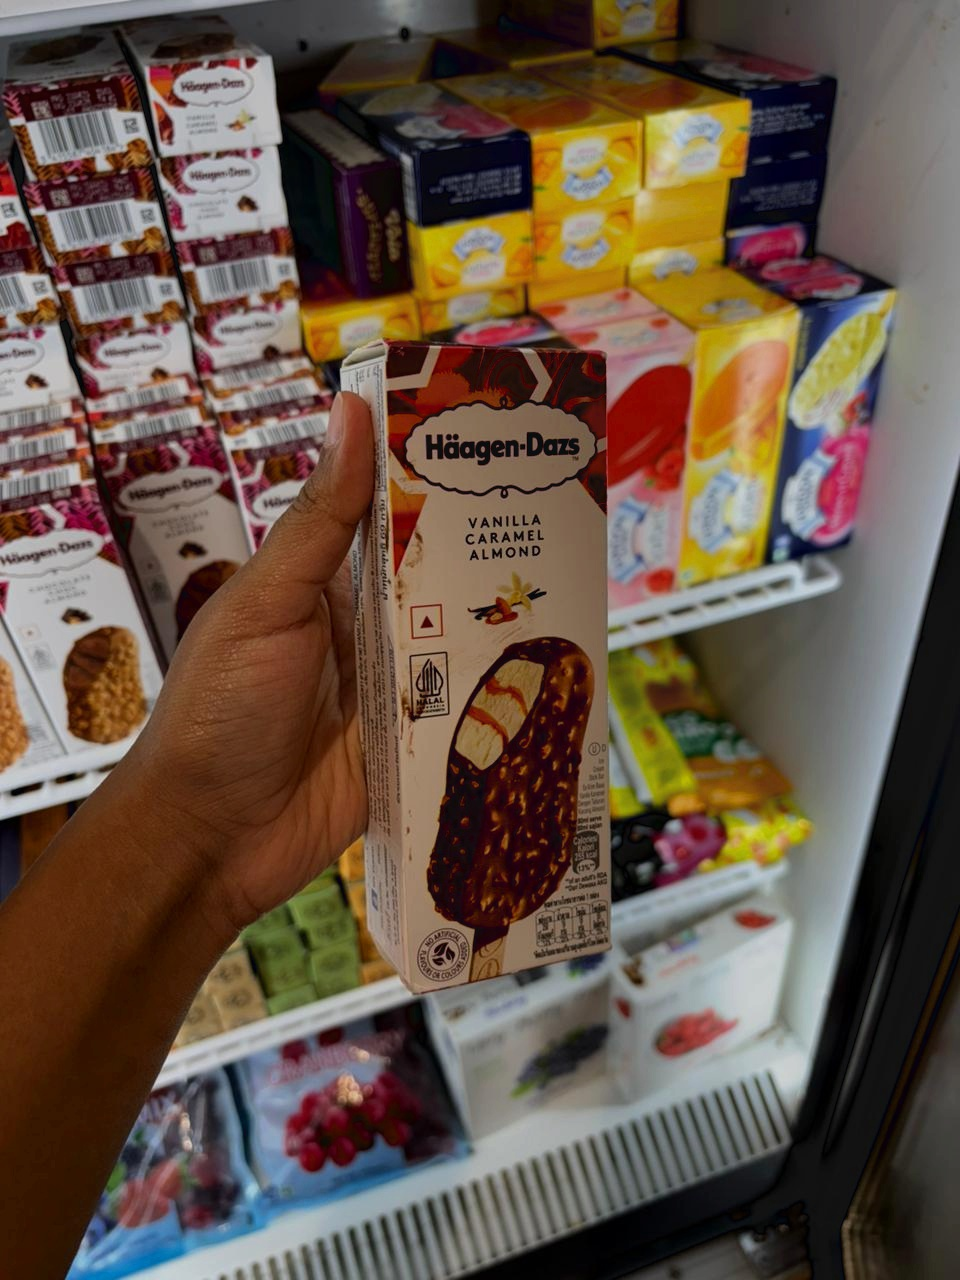Haagen-Dazs IceCream Bars: (326, 339, 642, 980), (1, 472, 171, 775), (93, 444, 267, 668), (31, 157, 175, 275), (219, 420, 334, 547), (4, 85, 163, 167), (145, 54, 286, 142), (57, 309, 200, 392), (156, 160, 307, 228), (185, 298, 306, 369), (176, 234, 307, 295)
